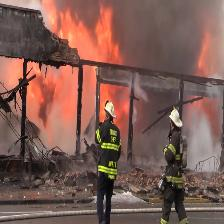fire: (46, 2, 116, 62)
smoke: (188, 101, 224, 181)
